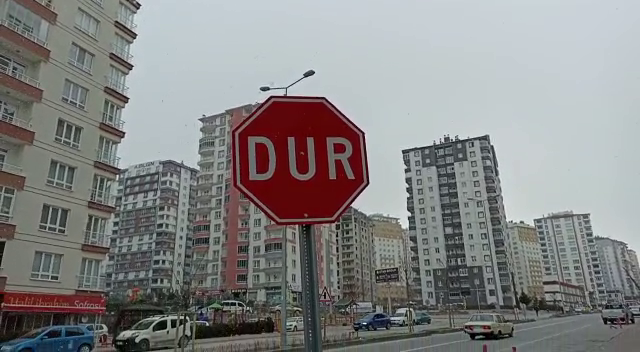stop: (228, 92, 375, 228)
